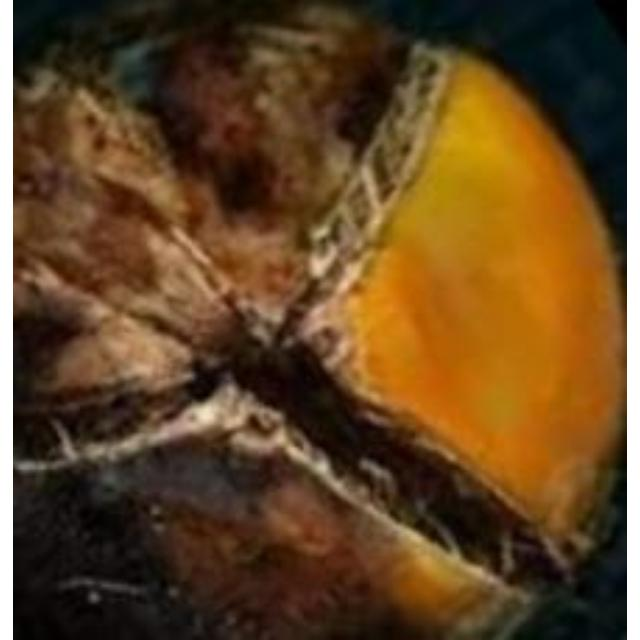damaged: (13, 6, 625, 637)
